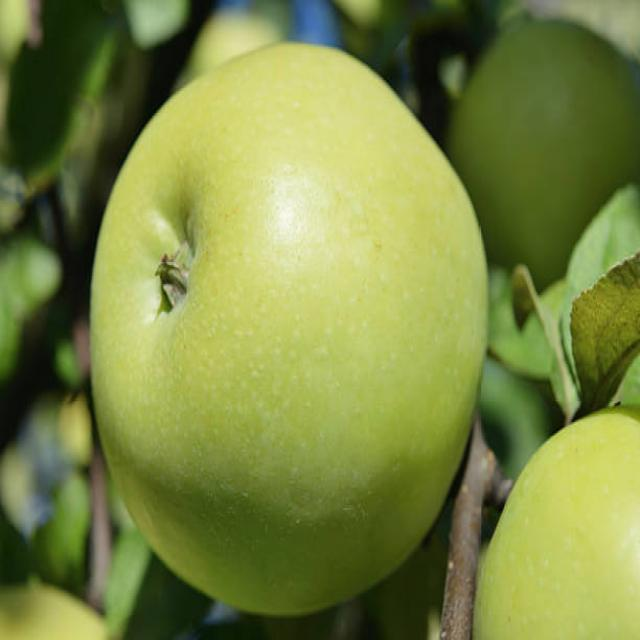Unripe: (89, 42, 488, 619)
